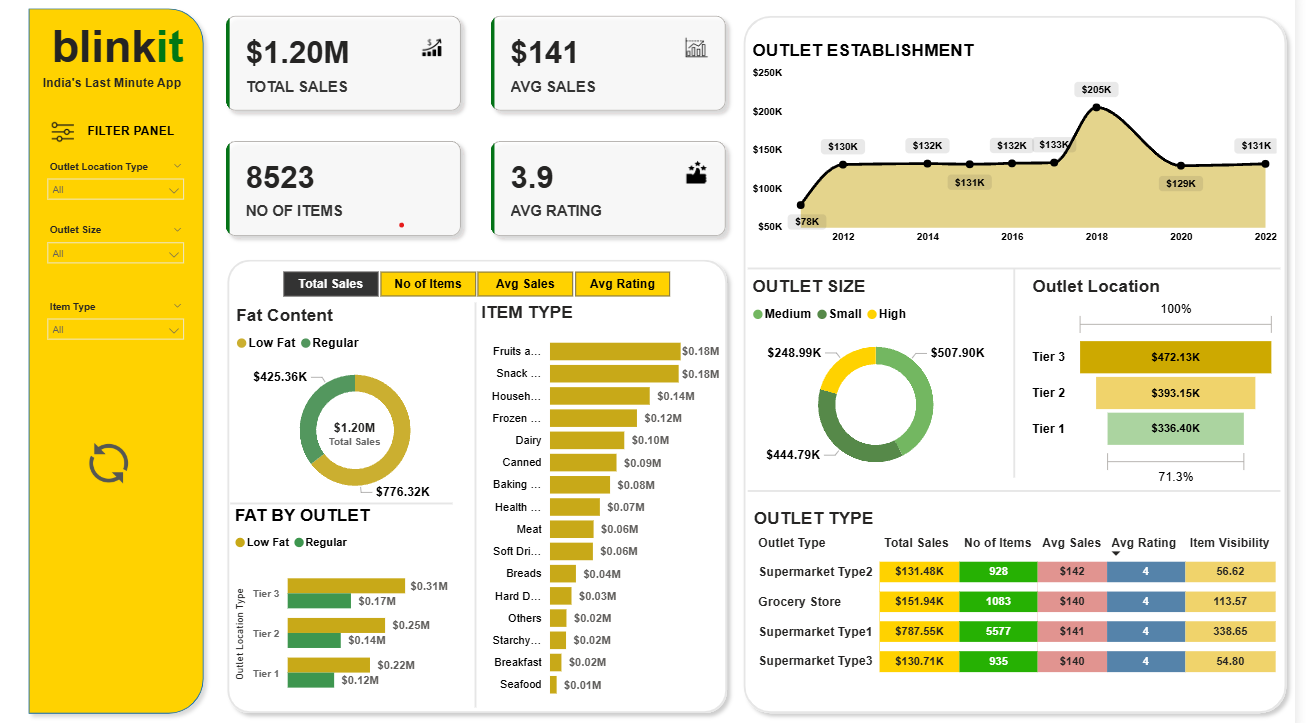

The dashboard page shown, as its layout file describes it:
{"tool":"powerbi","page":{"name":"Page 1","canvas":[1400,800],"ordinal":0},"visuals":[{"type":"shape","box":[33,10.5,205.6,774.4],"z":0},{"type":"textbox","box":[45,28.5,184.6,73.5],"z":1000},{"type":"textbox","box":[45,84,172.6,36],"z":2000},{"type":"cardVisual","fields":{"Data":["BlinkIT Grocery Data.Total Sales","BlinkIT Grocery Data.Avg Sales","BlinkIT Grocery Data.No of Items","BlinkIT Grocery Data.Avg Rating"]},"box":[237.1,10.5,570.3,270.2],"z":3000},{"type":"shape","box":[246.1,280.7,553.8,504.3],"z":4000},{"type":"donutChart","title":"Fat Content","fields":{"Y":["BlinkIT Grocery Data.Total Sales"],"Category":["BlinkIT Grocery Data.Item Fat Content"]},"box":[260.1,337.8,265.4,218.5],"z":5000},{"type":"slicer","fields":{"Values":["Metrics.Metrics"]},"box":[289.5,294.9,465.1,40.2],"z":6000},{"type":"cardVisual","fields":{"Data":["BlinkIT Grocery Data.Total Sales"]},"box":[344.5,446.4,95.2,59],"z":7000},{"type":"clusteredBarChart","title":"FAT BY OUTLET","fields":{"Y":["BlinkIT Grocery Data.Total Sales"],"Category":["BlinkIT Grocery Data.Outlet Location Type"],"Series":["BlinkIT Grocery Data.Item Fat Content"]},"box":[258.7,552.3,238.6,219.8],"z":8000},{"type":"shape","box":[258.6,532.9,238.6,34.3],"z":9000},{"type":"shape","box":[507.1,335.7,30,434.3],"z":10000},{"type":"barChart","title":"ITEM TYPE","fields":{"Y":["BlinkIT Grocery Data.Total Sales"],"Category":["BlinkIT Grocery Data.Item Type"]},"box":[522.9,335.7,265.7,434.3],"z":11000},{"type":"shape","box":[800,18.6,600,765.7],"z":12000},{"type":"lineChart","title":"OUTLET ESTABLISHMENT","fields":{"Category":["BlinkIT Grocery Data.Outlet Establishment Year"],"Y":["BlinkIT Grocery Data.Total Sales"]},"box":[813.7,53.6,572.4,226.5],"z":13000},{"type":"shape","box":[814.3,281.4,571.4,34.3],"z":14000},{"type":"donutChart","title":"OUTLET SIZE","fields":{"Category":["BlinkIT Grocery Data.Outlet Size"],"Y":["BlinkIT Grocery Data.Total Sales"]},"box":[814.3,307.1,275,225],"z":15000},{"type":"shape","box":[1084.3,298.6,30,224.3],"z":16000},{"type":"funnel","title":"Outlet Location ","fields":{"Y":["Sum(BlinkIT Grocery Data.Sales)"],"Category":["BlinkIT Grocery Data.Outlet Location Type"]},"box":[1114.3,307.1,271.4,230],"z":17000},{"type":"shape","box":[814.3,520,571.4,34.3],"z":18000},{"type":"pivotTable","title":"OUTLET TYPE","fields":{"Values":["BlinkIT Grocery Data.Total Sales","BlinkIT Grocery Data.No of Items","BlinkIT Grocery Data.Avg Sales","Avg(BlinkIT Grocery Data.Rating)","Sum(BlinkIT Grocery Data.Item Visibility)"],"Rows":["BlinkIT Grocery Data.Outlet Type"]},"box":[815,556.3,571,209.1],"z":19000},{"type":"slicer","fields":{"Values":["BlinkIT Grocery Data.Outlet Location Type"]},"box":[52.9,178.6,167.1,68.6],"z":20000},{"type":"slicer","fields":{"Values":["BlinkIT Grocery Data.Outlet Size"]},"box":[52.9,247.1,167.1,68.6],"z":21000},{"type":"slicer","fields":{"Values":["BlinkIT Grocery Data.Item Type"]},"box":[52.9,328.6,167.1,68.6],"z":22000},{"type":"textbox","box":[100,137.1,118.6,30],"z":23000},{"type":"image","box":[45.7,131.4,67.1,41.4],"z":24000},{"type":"image","box":[99.1,475.8,58.5,63],"z":26000}]}

Visuals, with their boxes on the page's 1400x800 design canvas (x1, y1, x2, y2). These are canvas units, not pixel positions in the 1307x723 screenshot, which may show the page scaled, cropped or inside an application window:
shape: x1=33, y1=10, x2=239, y2=785
textbox: x1=45, y1=28, x2=230, y2=102
textbox: x1=45, y1=84, x2=218, y2=120
cardVisual - BlinkIT Grocery Data.Total Sales x BlinkIT Grocery Data.Avg Sales: x1=237, y1=10, x2=807, y2=281
shape: x1=246, y1=281, x2=800, y2=785
"Fat Content" donutChart: x1=260, y1=338, x2=526, y2=556
slicer - Metrics.Metrics: x1=290, y1=295, x2=755, y2=335
cardVisual - BlinkIT Grocery Data.Total Sales: x1=344, y1=446, x2=440, y2=505
"FAT BY OUTLET" clusteredBarChart: x1=259, y1=552, x2=497, y2=772
shape: x1=259, y1=533, x2=497, y2=567
shape: x1=507, y1=336, x2=537, y2=770
"ITEM TYPE" barChart: x1=523, y1=336, x2=789, y2=770
shape: x1=800, y1=19, x2=1400, y2=784
"OUTLET ESTABLISHMENT" lineChart: x1=814, y1=54, x2=1386, y2=280
shape: x1=814, y1=281, x2=1386, y2=316
"OUTLET SIZE" donutChart: x1=814, y1=307, x2=1089, y2=532
shape: x1=1084, y1=299, x2=1114, y2=523
"Outlet Location " funnel: x1=1114, y1=307, x2=1386, y2=537
shape: x1=814, y1=520, x2=1386, y2=554
"OUTLET TYPE" pivotTable: x1=815, y1=556, x2=1386, y2=765
slicer - BlinkIT Grocery Data.Outlet Location Type: x1=53, y1=179, x2=220, y2=247
slicer - BlinkIT Grocery Data.Outlet Size: x1=53, y1=247, x2=220, y2=316
slicer - BlinkIT Grocery Data.Item Type: x1=53, y1=329, x2=220, y2=397
textbox: x1=100, y1=137, x2=219, y2=167
image: x1=46, y1=131, x2=113, y2=173
image: x1=99, y1=476, x2=158, y2=539
